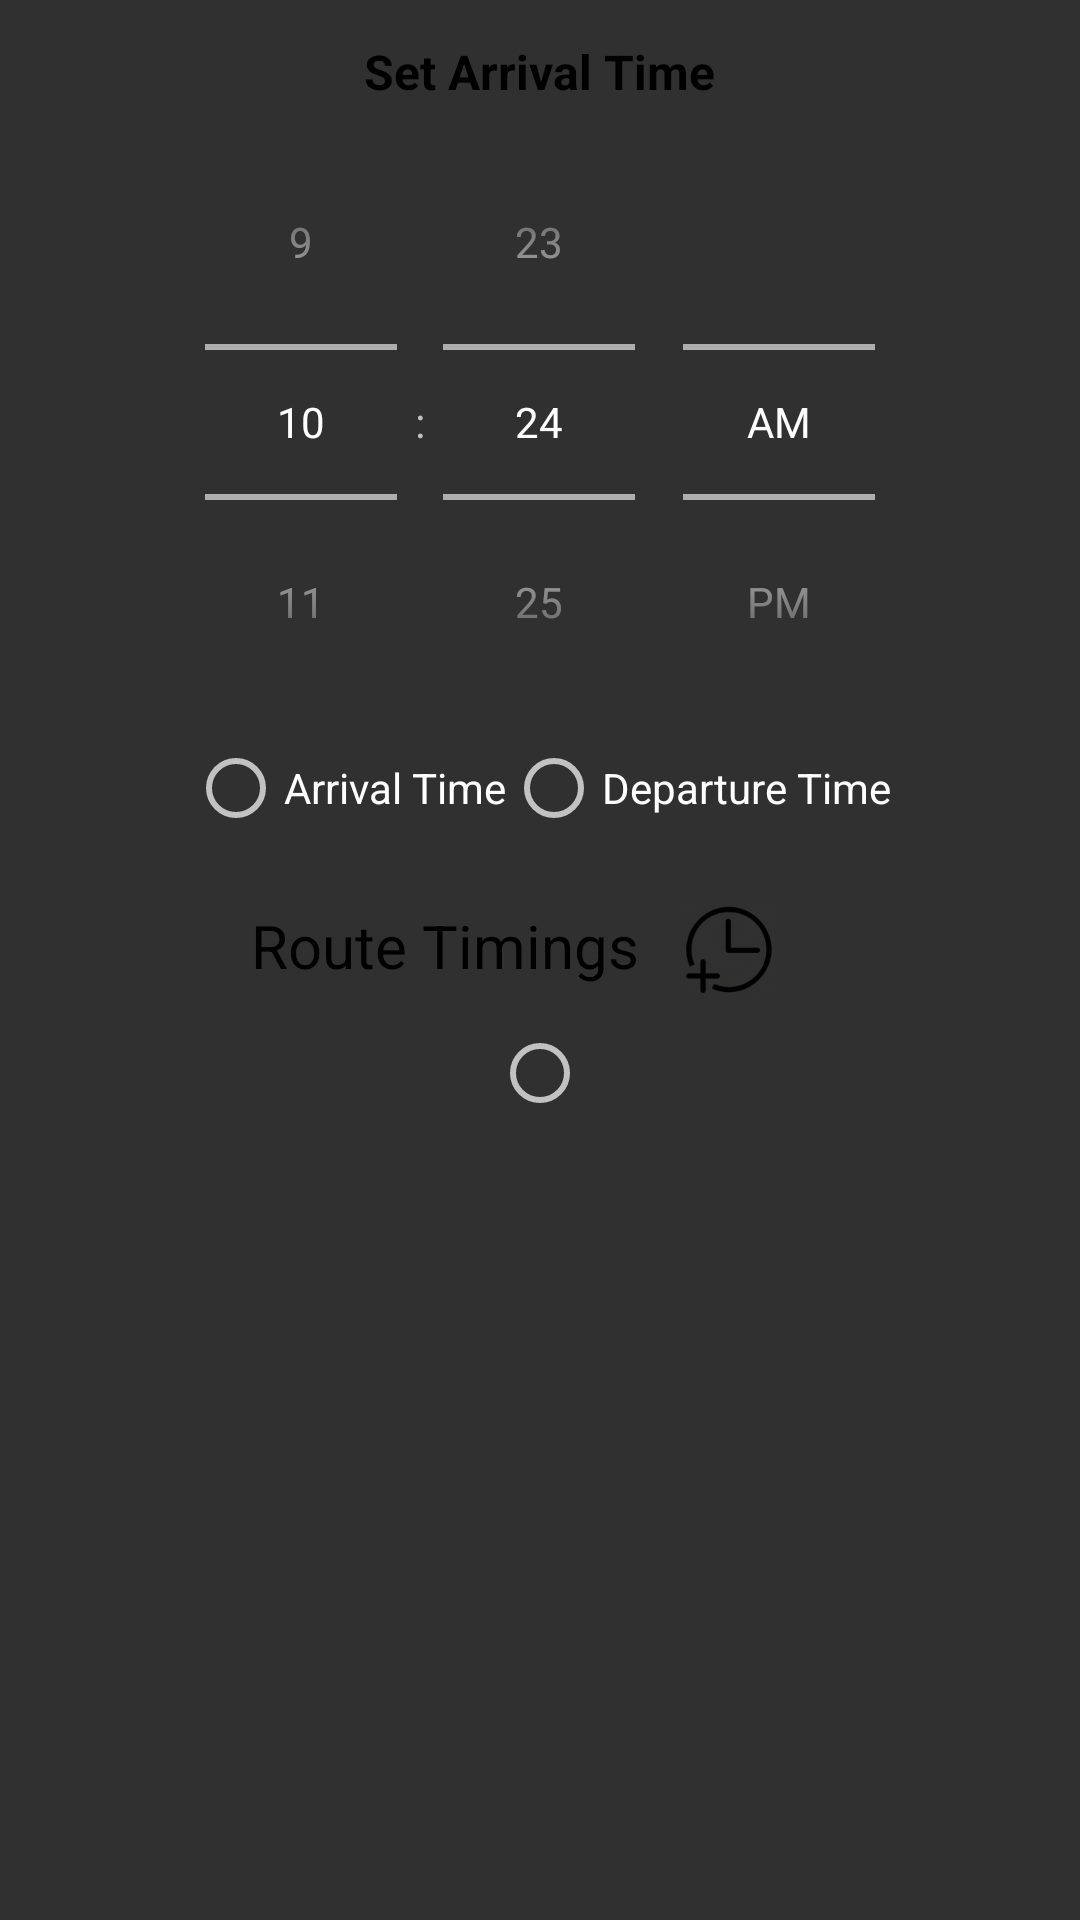

Point at icon controls on the screen. Image size 1080*1920, points as (x,y).
add time: (729,950)
